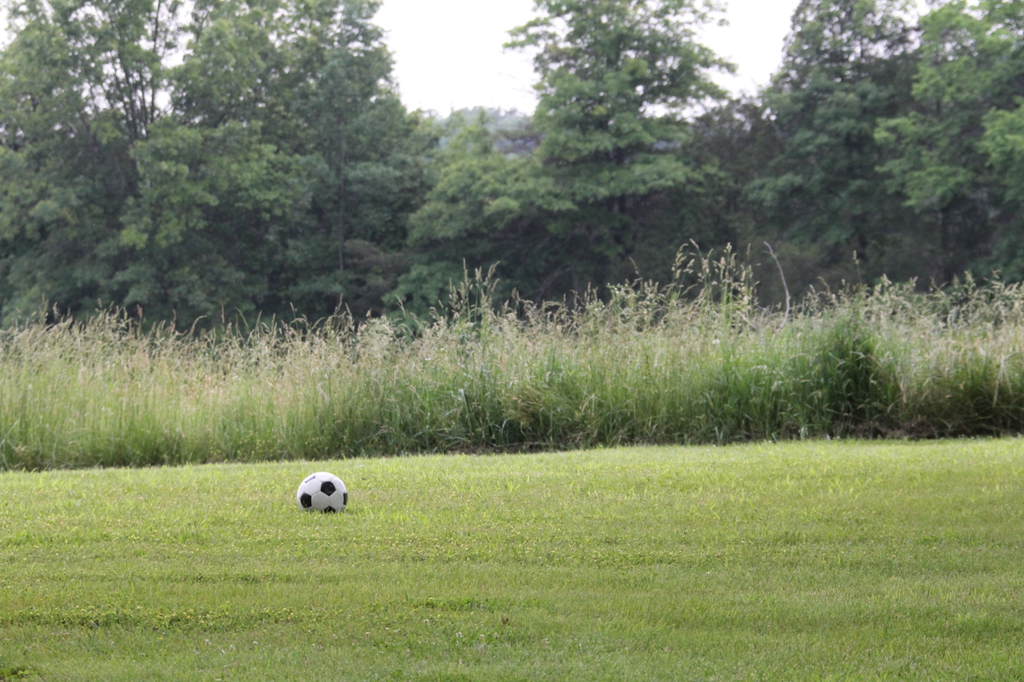Ball: (297, 472, 350, 511)
